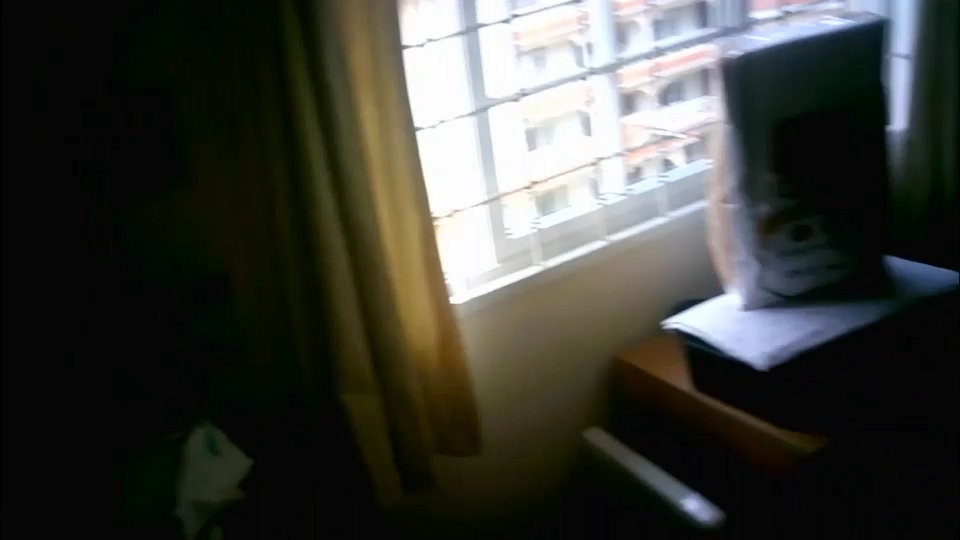maize_flour_green_label: (699, 14, 902, 315)
